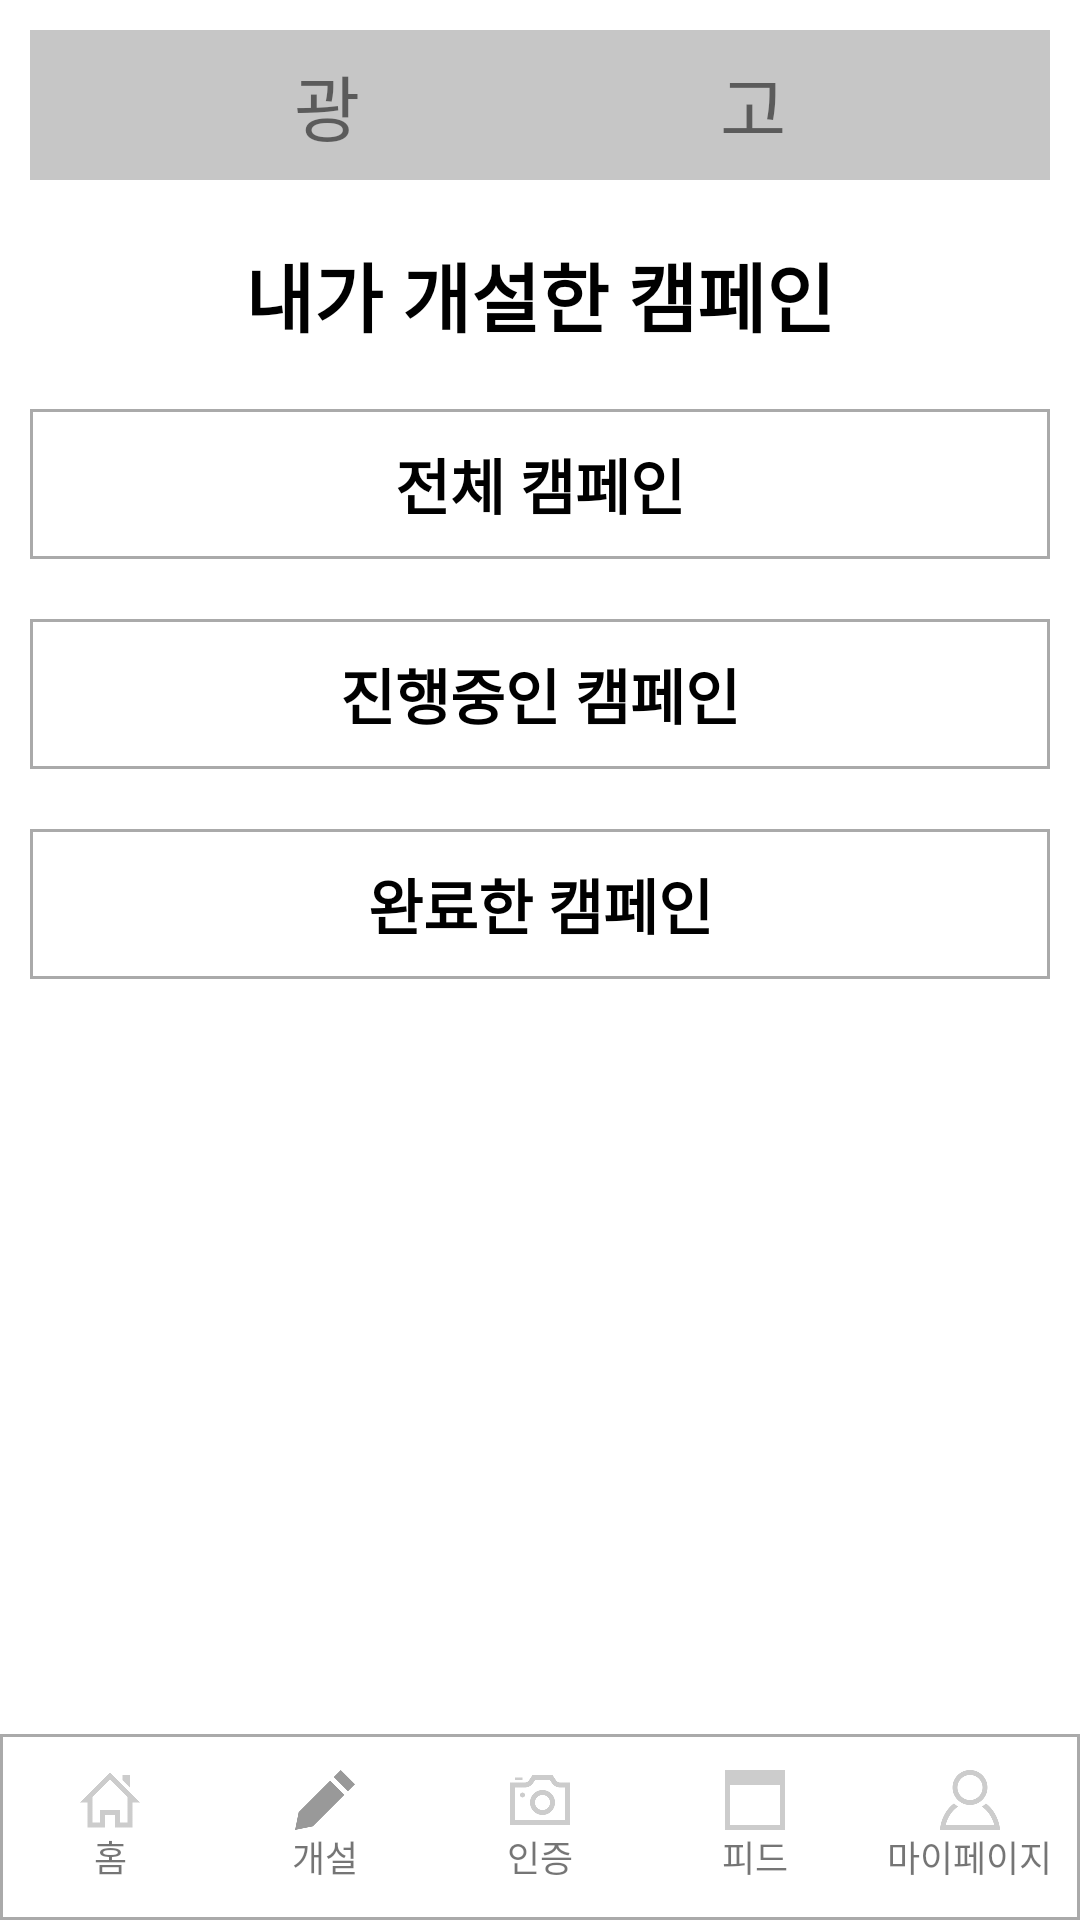

Screen size 1080w x 1920h. Icon name, then its center in pixels as point (x, y):
write: point (325, 1800)
